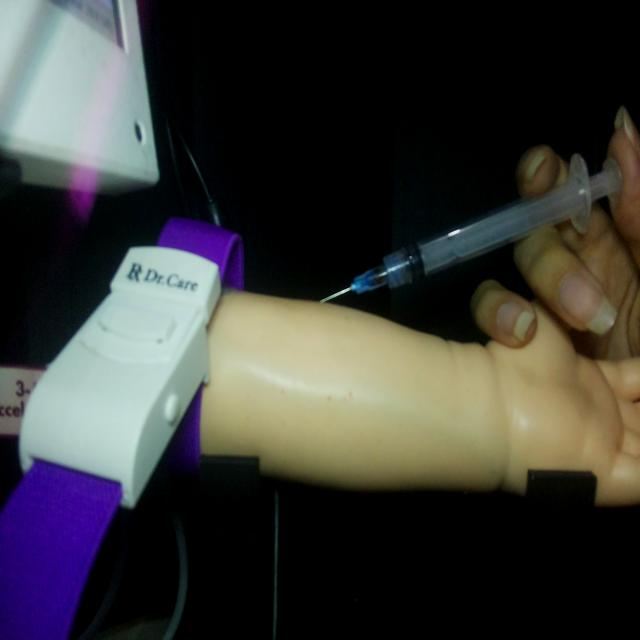16 degrees: (318, 150, 624, 306)
